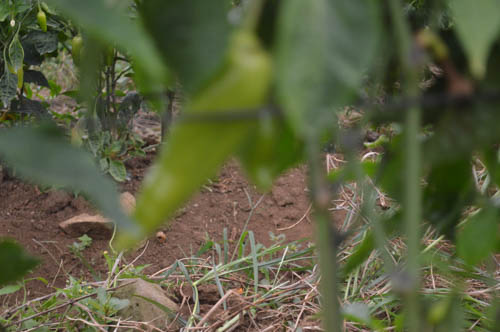ChiliPepper: (114, 45, 265, 258)
